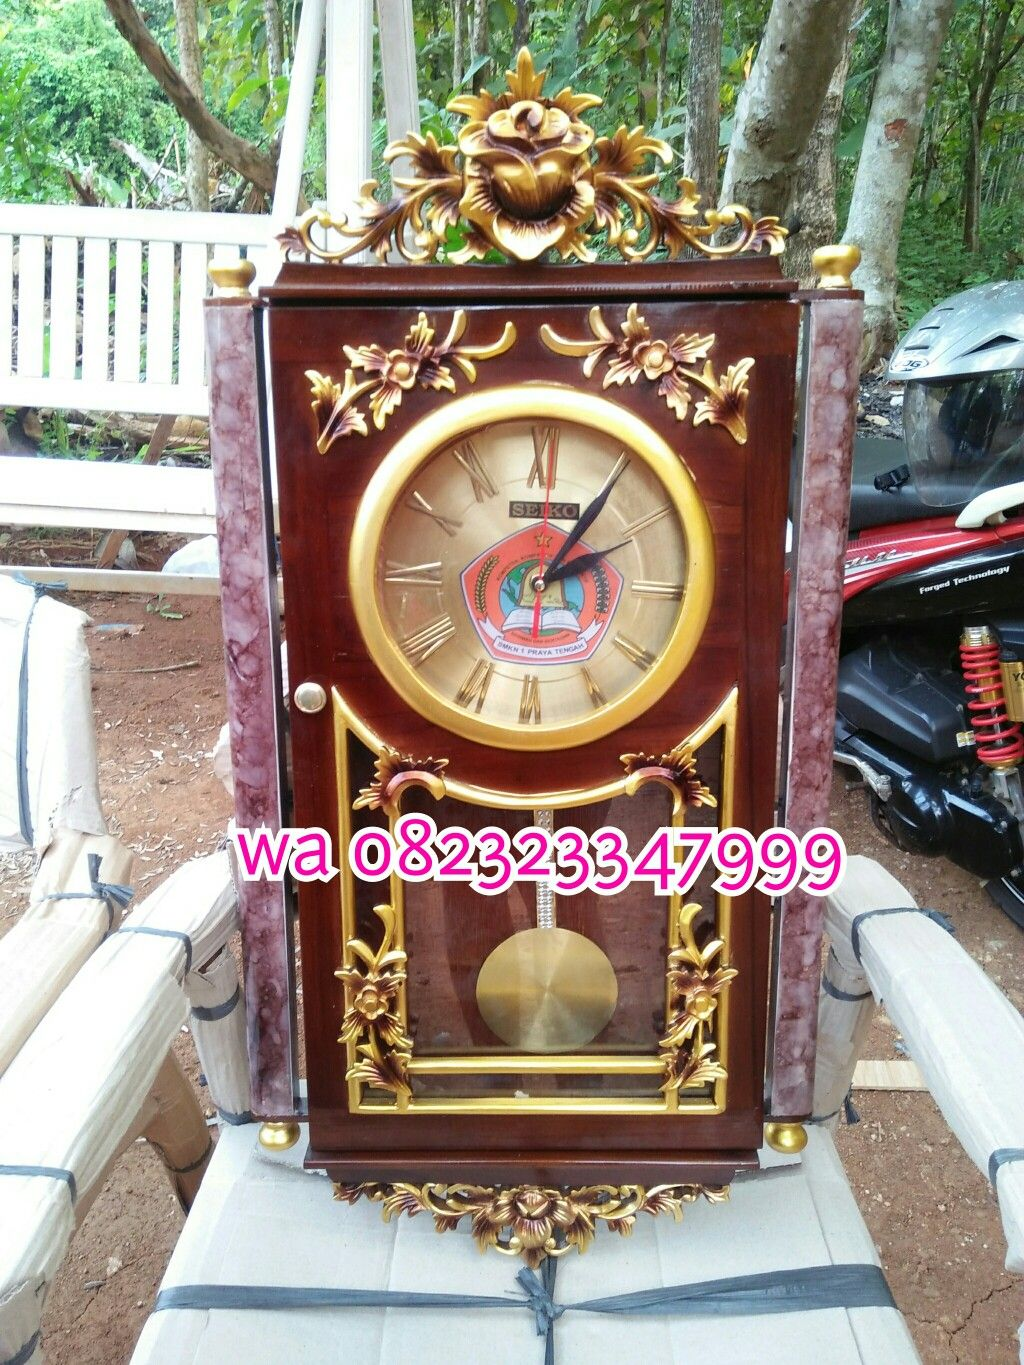jam dinding: (120, 132, 821, 811)
